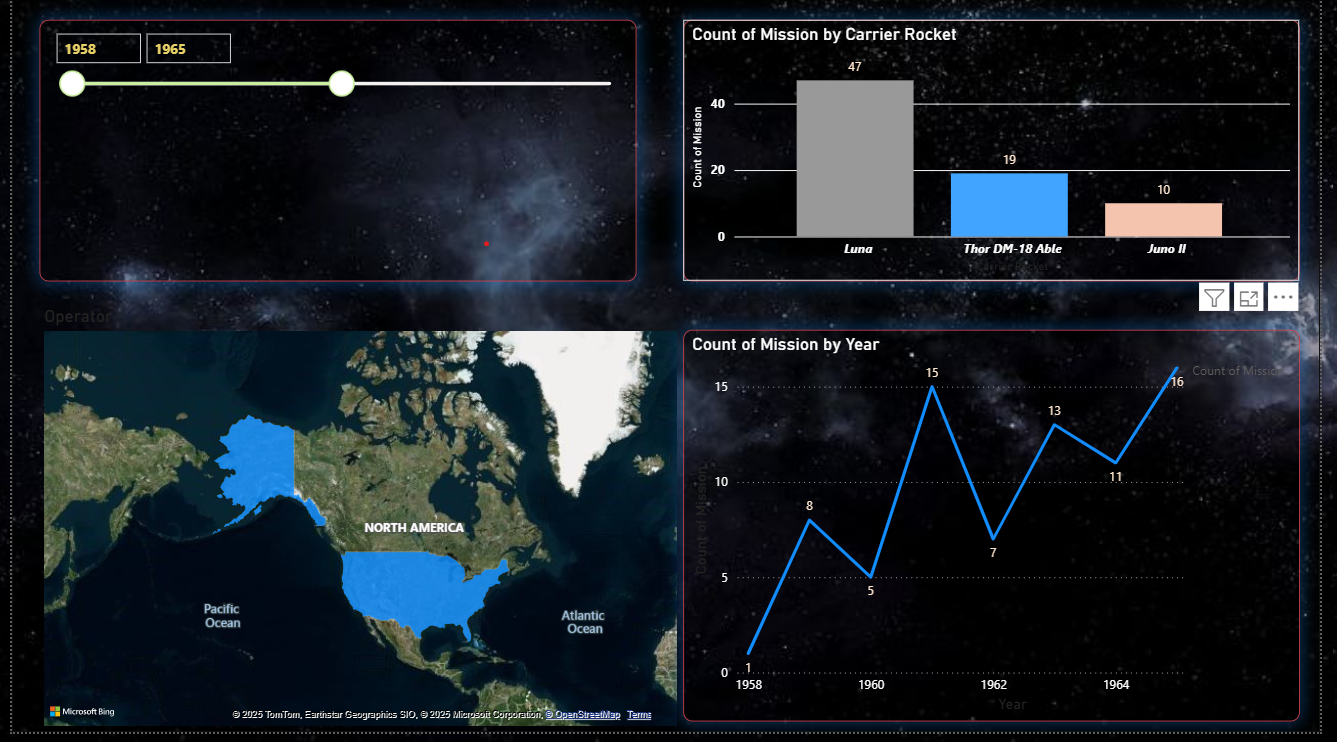

What the dashboard file says about the page in this screenshot:
{"tool":"powerbi","page":{"name":"Duplicate of Page 1","canvas":[1280,720],"ordinal":1},"visuals":[{"type":"slicer","fields":{"Values":["Moon_Mission_Analysis_160.Launch Date.Variation.Date Hierarchy.Year"]},"box":[0,22,584.5,255.6],"z":0},{"type":"filledMap","fields":{"Category":["Moon_Mission_Analysis_160.Operator"]},"box":[27.5,303.8,628.8,416.2],"z":1000},{"type":"lineChart","fields":{"Category":["Moon_Mission_Analysis_160.Launch Date.Variation.Date Hierarchy.Year"],"Y":["CountNonNull(Moon_Mission_Analysis_160.Mission)"]},"box":[657,319.8,603.5,383.7],"z":2000},{"type":"columnChart","fields":{"Category":["Moon_Mission_Analysis_160.Carrier Rocket"],"Y":["CountNonNull(Moon_Mission_Analysis_160.Mission)"]},"box":[657,23,603,256],"z":3000}]}

Visuals, with their boxes in screenshot pixels (x1, y1, x2, y2), scaled from the page's 1280x720 canvas onto the 1337x742 screenshot:
slicer - Moon_Mission_Analysis_160.Launch Date.Variation.Date Hierarchy.Year: 0,23,611,286
filledMap - Moon_Mission_Analysis_160.Operator: 29,313,686,741
lineChart - Moon_Mission_Analysis_160.Launch Date.Variation.Date Hierarchy.Year x CountNonNull(Moon_Mission_Analysis_160.Mission): 686,330,1317,725
columnChart - Moon_Mission_Analysis_160.Carrier Rocket x CountNonNull(Moon_Mission_Analysis_160.Mission): 686,24,1316,288
